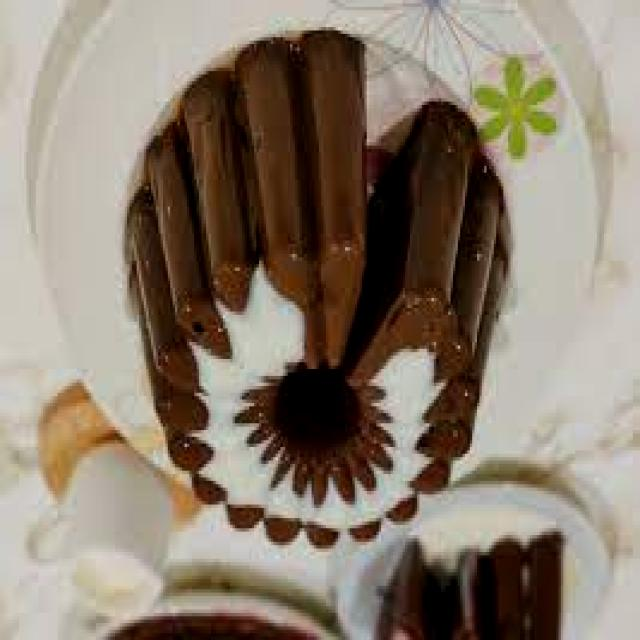puding: (127, 27, 506, 549)
